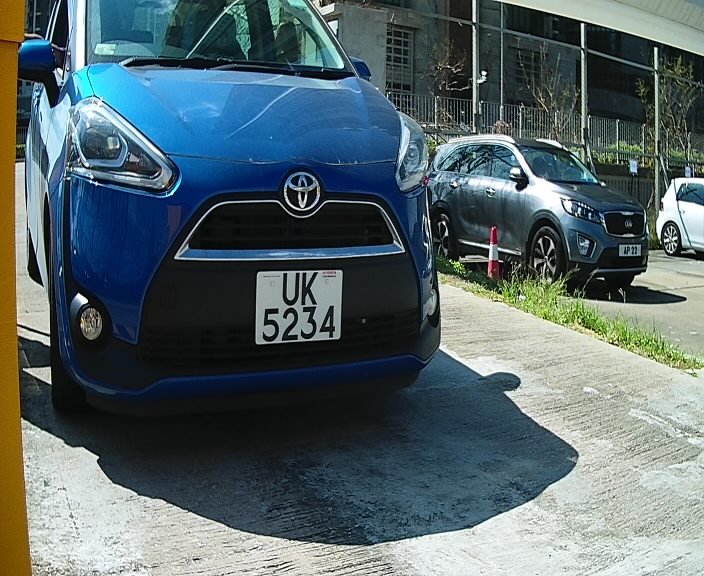License Plate: (253, 261, 347, 355)
